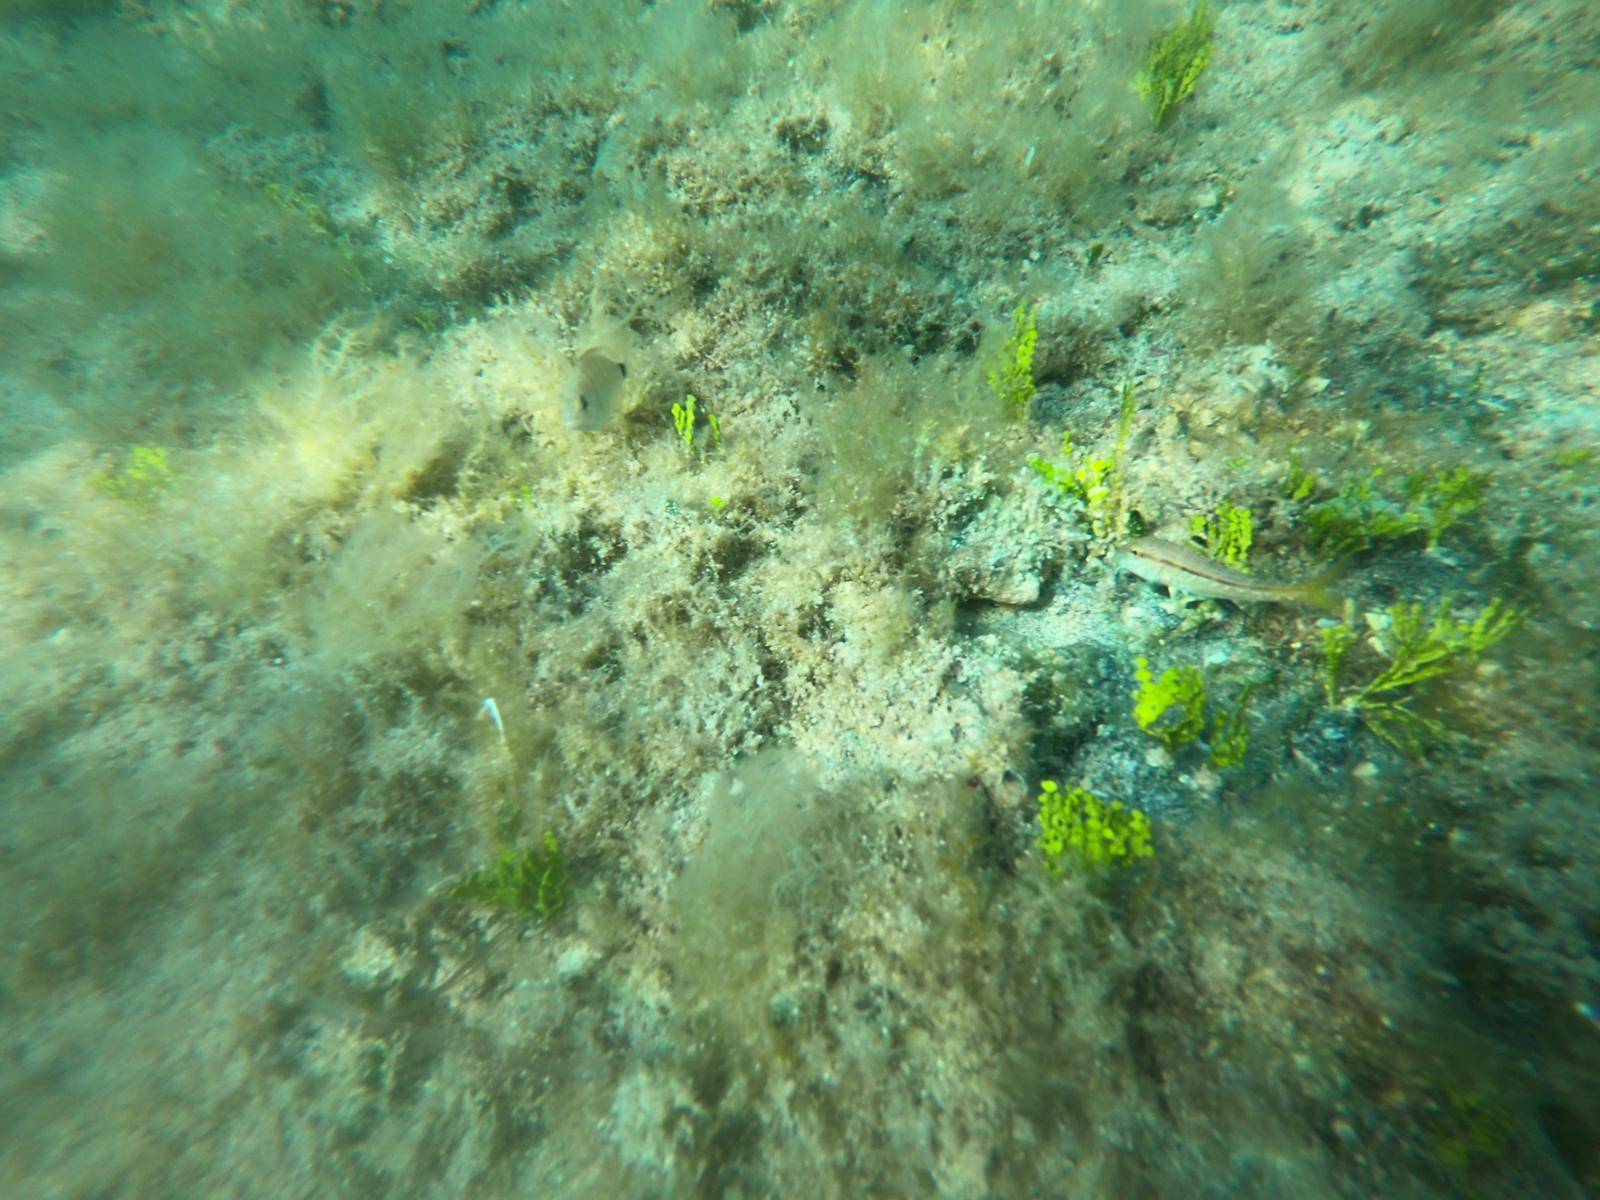halimeda: (1361, 597, 1516, 745), (1029, 780, 1157, 882), (451, 829, 569, 926), (1139, 10, 1220, 136), (1125, 638, 1203, 755), (979, 300, 1043, 424), (1319, 493, 1406, 571), (1036, 447, 1123, 521), (1411, 468, 1482, 541), (1314, 605, 1356, 717), (1186, 502, 1255, 567), (1212, 697, 1255, 776), (658, 391, 706, 450), (132, 441, 173, 487)
